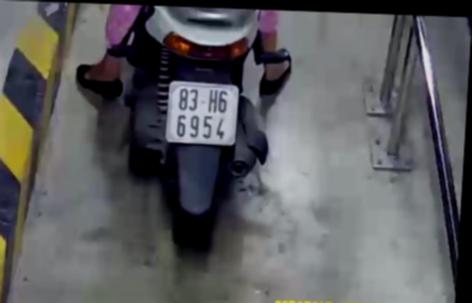License_Plate: (158, 77, 237, 151)
